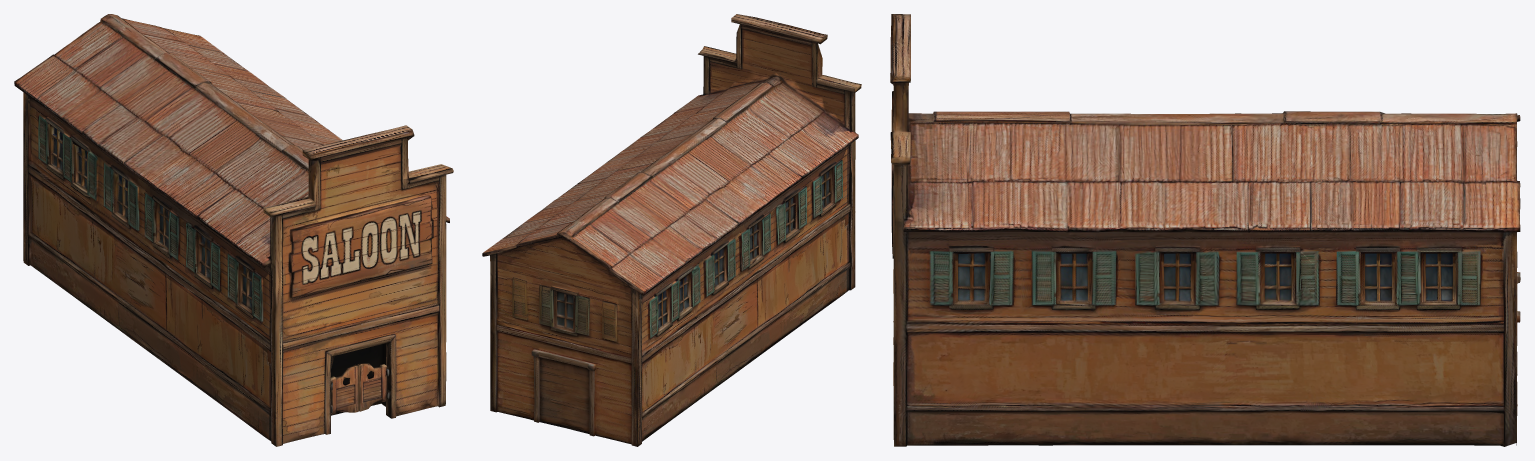
Rendered from wl_saloon_long.glb.
3 views of the same model, side by side, from view 1: azimuth 30°, elevation 25°; view 2: azimuth 150°, elevation 25°; view 3: azimuth 270°, elevation 25° (orthographic). The views are drawn at different scales.
Visible parts, largest first — view 1: wl_saloon_long; view 2: wl_saloon_long; view 3: wl_saloon_long.
Part boxes in pixels (box(x1,y1,x2,y2)): wl_saloon_long: box(14, 14, 453, 446); wl_saloon_long: box(482, 14, 861, 446); wl_saloon_long: box(890, 14, 1520, 446).
Bounding box in the file's own units: 0.4236 × 0.6145 × 1.
1 material, 1 textured.
